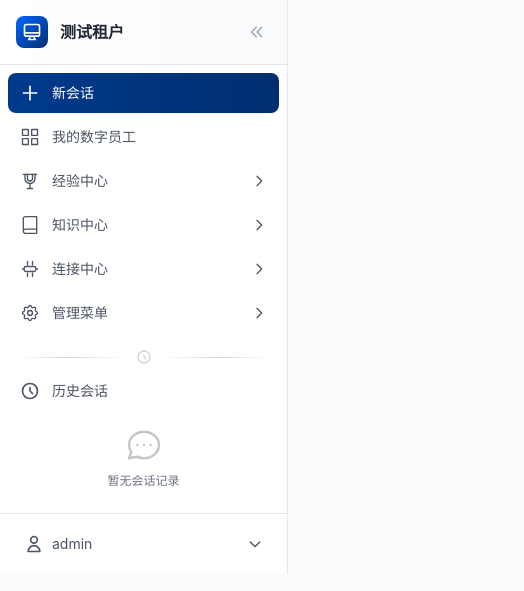
Test: MenuSidebar - flyout 二级菜单 › 连接中心：管理员子菜单含全部 4 项（API配置/渠道配置/企微个人RPA/本地工具）
Hover over the button "连接中心" at (80, 268), box [8,249,279,289]
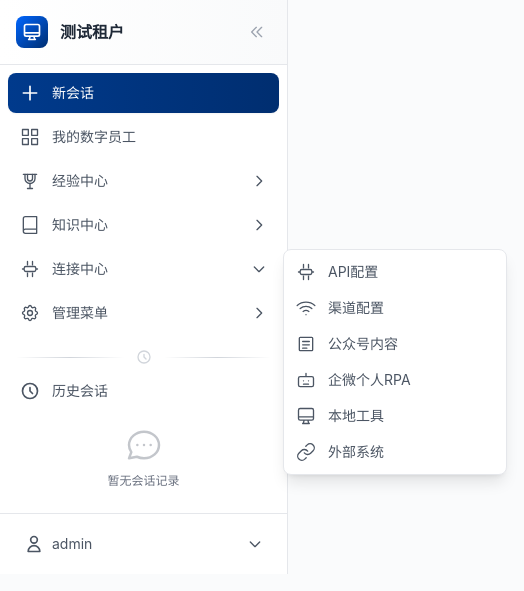
Result: the element showing "API配置 渠道配置 公众号内容 企微个人RPA 本地工具 外部系统" is shown at [283,249,507,475]
